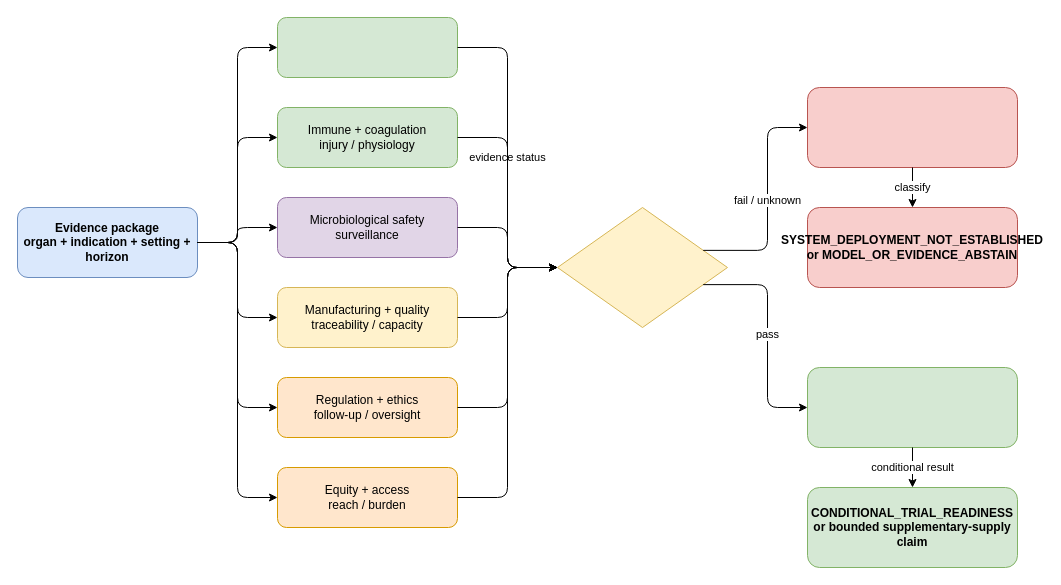
This 1061x585 diagram has some shape labels left out. The shapes that lost their labels are listed below. From the top down, each one's box as (x1, y1, x2, y2) in pixels, then its label:
(276, 16, 458, 78): Biological evidence function / durability
(806, 86, 1018, 168): Any critical domain adverse, insufficient, or non-transferable
(556, 206, 728, 328): Critical-domain non-compensatory gate
(806, 366, 1018, 448): All critical domains sufficient + conditional sensitivity analysis
